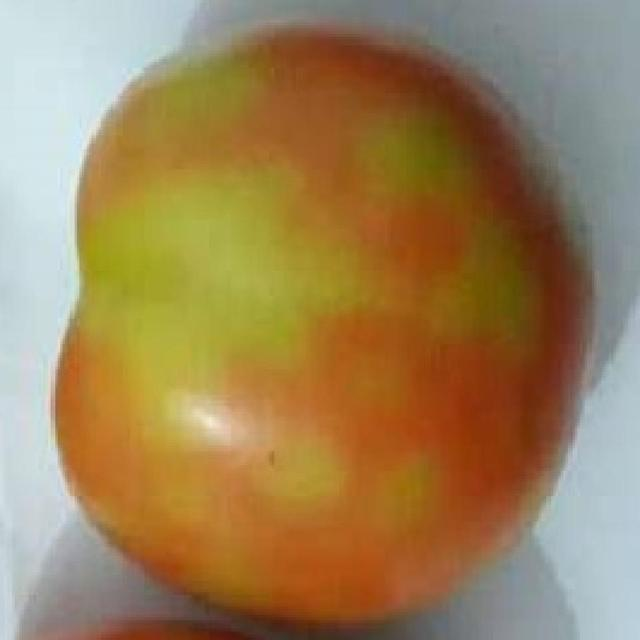Spotted wilt Virus Fruit: (34, 14, 396, 419)
